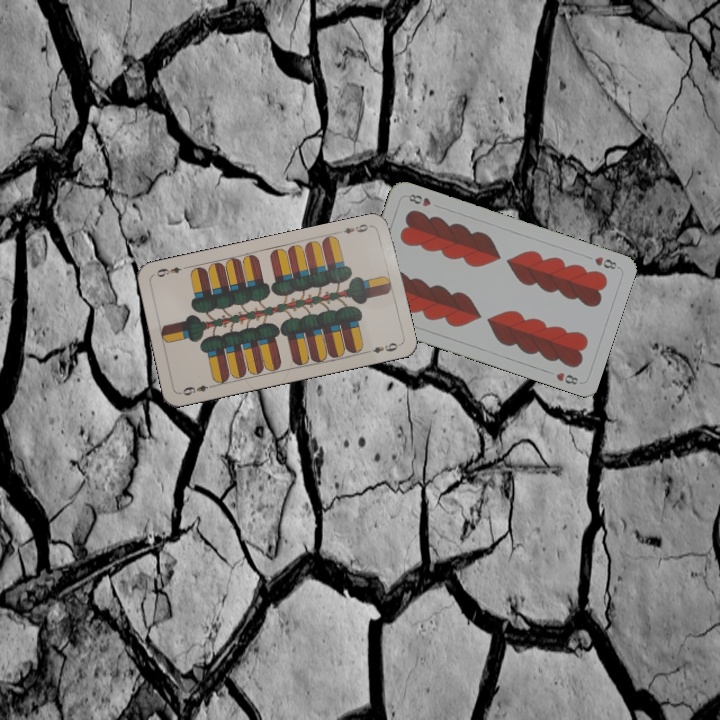E9: (179, 381, 217, 398), (335, 220, 375, 236)
H8: (590, 252, 621, 272)
